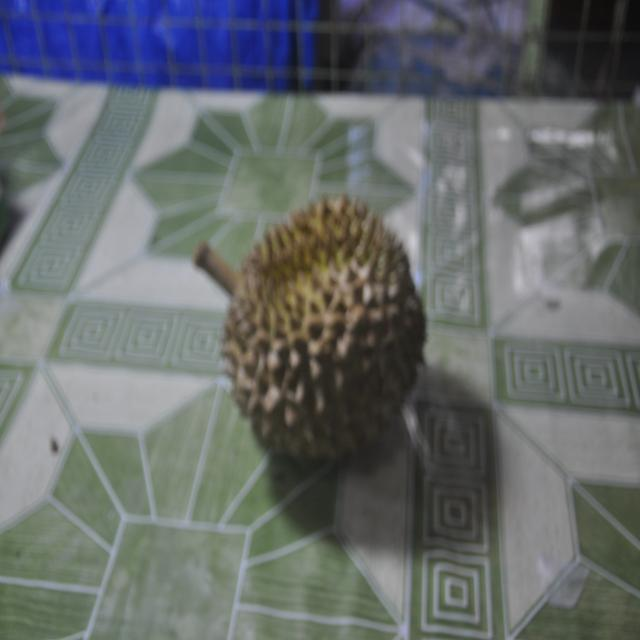mature: (194, 196, 426, 459)
